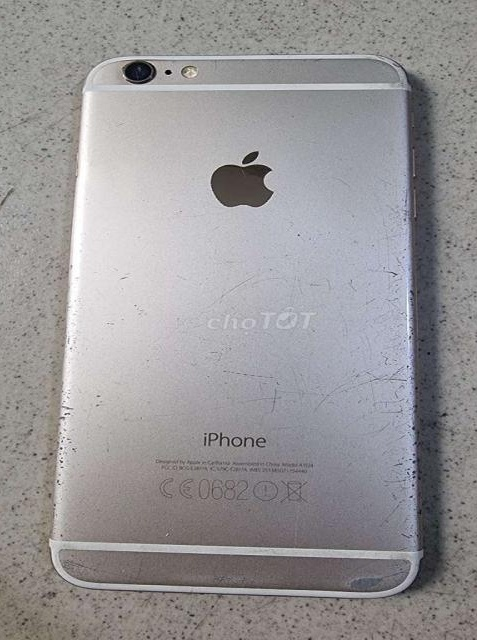scratch: (317, 134, 438, 597), (56, 314, 121, 558), (200, 314, 319, 435), (59, 544, 122, 598)
